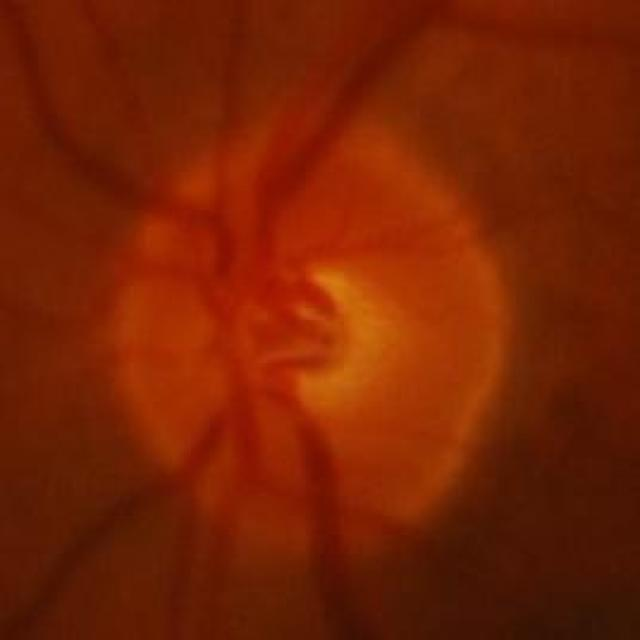OC: (265, 268, 395, 403)
OD: (110, 117, 508, 561)
